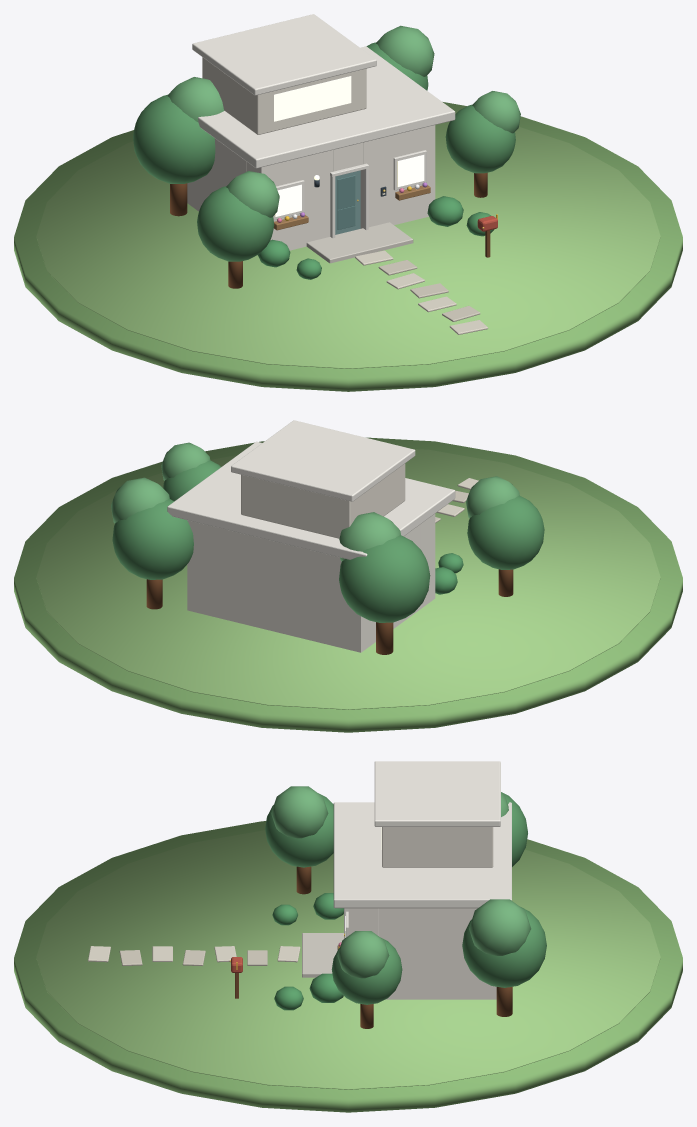
File: villa_exterior.glb
3 renders of one model, top to bottom at view 1: azimuth 30°, elevation 25°; view 2: azimuth 150°, elevation 25°; view 3: azimuth 270°, elevation 25°, orthographic.
Visible parts, largest first — view 1: lawn, ground-disc, house_walls, roof-slab, upper-cap, crown.004, upper, crown, crown.002, porch, upper-glass, crown.007 (+11 smaller); view 2: lawn, ground-disc, house_walls, upper-cap, roof-slab, upper, crown.004, crown.006, crown, crown.005, crown.007, crown.001 (+5 smaller); view 3: lawn, ground-disc, roof-slab, house_walls, upper-cap, upper, crown.006, crown.007, crown, crown.001, crown.002, crown.003 (+5 smaller).
Part boxes in pixels (left/top/right/bottom): lawn: left=36, top=113, right=660, bottom=368; ground-disc: left=14, top=102, right=682, bottom=391; house_walls: left=187, top=125, right=435, bottom=250; roof-slab: left=198, top=46, right=455, bottom=168; upper-cap: left=192, top=14, right=376, bottom=95; crown.004: left=133, top=94, right=215, bottom=183; upper: left=202, top=57, right=366, bottom=134; crown: left=197, top=186, right=274, bottom=261; crown.002: left=445, top=104, right=515, bottom=173; porch: left=306, top=222, right=413, bottom=263; upper-glass: left=274, top=76, right=351, bottom=121; crown.007: left=376, top=25, right=434, bottom=76; lawn: left=36, top=448, right=660, bottom=709; ground-disc: left=14, top=437, right=682, bottom=732; house_walls: left=187, top=514, right=435, bottom=652; upper-cap: left=231, top=420, right=415, bottom=501; roof-slab: left=167, top=441, right=455, bottom=559; upper: left=241, top=463, right=405, bottom=538; crown.004: left=339, top=535, right=430, bottom=622; crown.006: left=112, top=499, right=193, bottom=579; crown: left=467, top=495, right=544, bottom=569; crown.005: left=339, top=512, right=400, bottom=561; crown.007: left=111, top=477, right=169, bottom=523; crown.001: left=466, top=476, right=519, bottom=518; lawn: left=36, top=830, right=660, bottom=1089; ground-disc: left=14, top=821, right=682, bottom=1112; roof-slab: left=333, top=802, right=511, bottom=908; house_walls: left=348, top=908, right=496, bottom=999; upper-cap: left=374, top=761, right=500, bottom=826; upper: left=382, top=827, right=493, bottom=867; crown.006: left=462, top=907, right=546, bottom=987; crown.007: left=469, top=899, right=531, bottom=955; crown: left=265, top=793, right=333, bottom=867; crown.001: left=271, top=786, right=328, bottom=838; crown.002: left=331, top=937, right=402, bottom=1004; crown.003: left=337, top=931, right=389, bottom=978.
Bounding box in the file's own units: 18 × 5.08 × 18.
